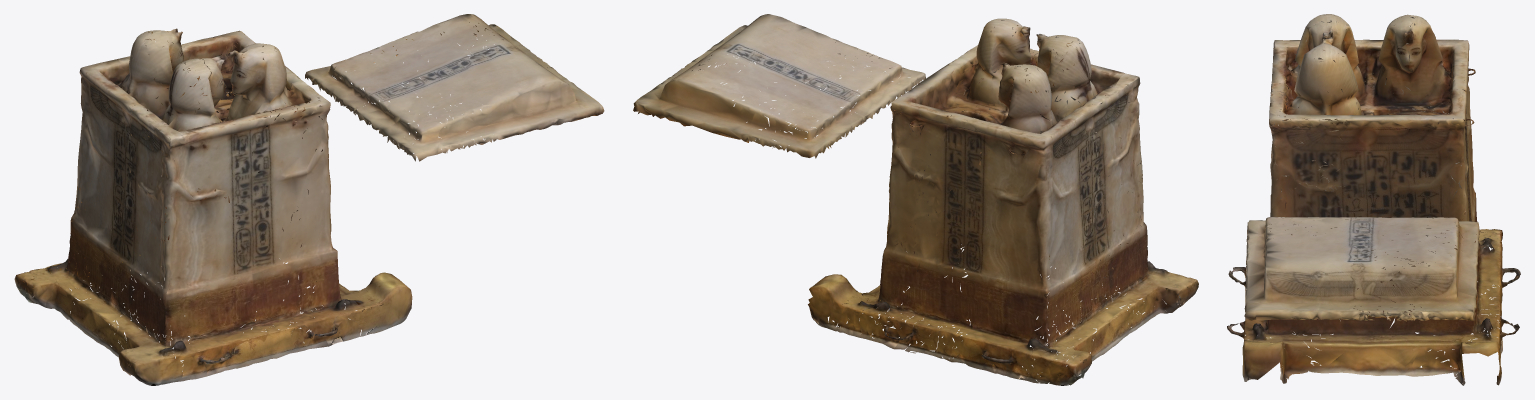
Rendered from canopic-chest-opening.glb.
3 views of the same model, side by side, from view 1: azimuth 30°, elevation 25°; view 2: azimuth 150°, elevation 25°; view 3: azimuth 270°, elevation 25° (orthographic). The views are drawn at different scales.
Visible parts, largest first — view 1: calcite-chest-body (×5), calcite-chest-lid (×4), canopic-head-stoppers (×4); view 2: calcite-chest-body (×5), calcite-chest-lid (×4), canopic-head-stoppers (×4); view 3: calcite-chest-body (×6), calcite-chest-lid (×5), canopic-head-stoppers (×4).
Boxes of the visible parts, x1,y1,x2,y2 form: calcite-chest-body (×5): (14,49,412,385); calcite-chest-lid (×4): (305,14,604,161); canopic-head-stoppers (×4): (79,28,330,153); calcite-chest-body (×5): (808,63,1198,385); calcite-chest-lid (×4): (633,14,925,158); canopic-head-stoppers (×4): (890,18,1140,159); calcite-chest-body (×6): (1227,61,1520,385); calcite-chest-lid (×5): (1244,217,1479,321); canopic-head-stoppers (×4): (1269,14,1474,140).
Bounding box in the file's own units: 8.04 × 4.59 × 4.22.
1 material, 1 textured.
